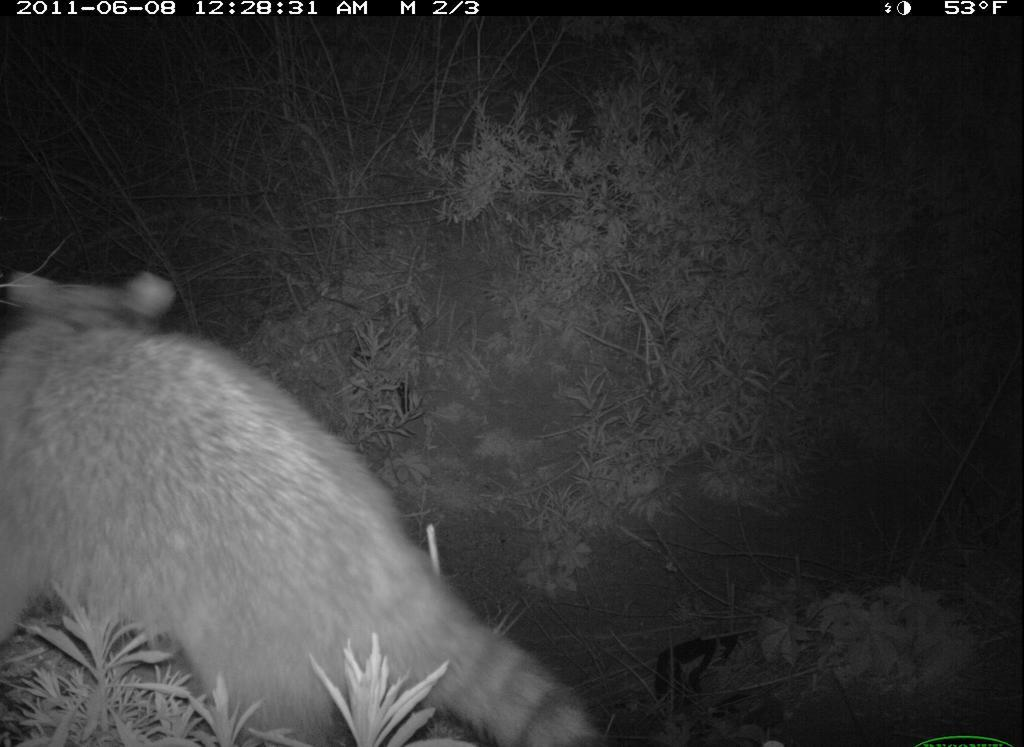raccoon: (3, 230, 601, 747)
